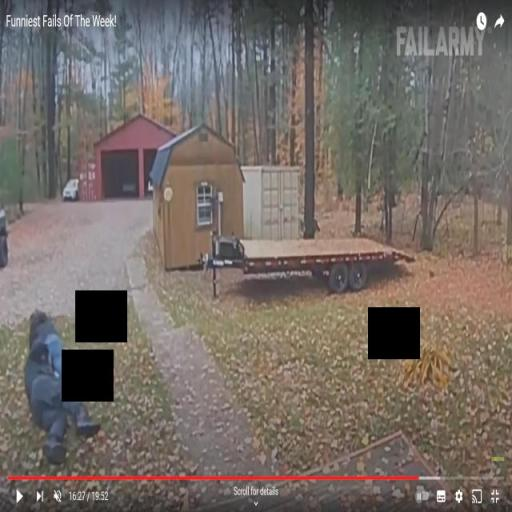Fall: (20, 334, 103, 470), (27, 305, 85, 392)
